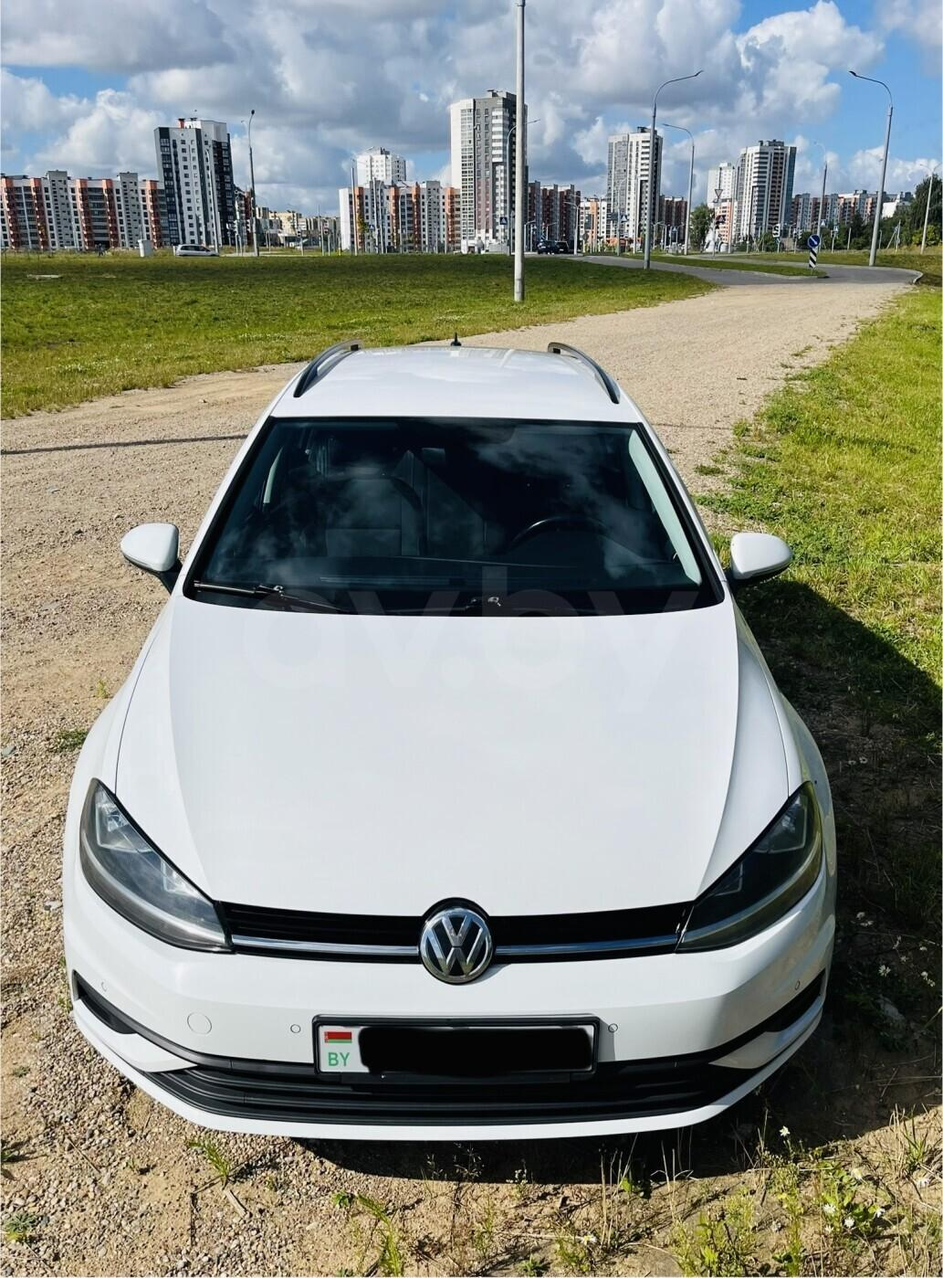Golf_2017-2021: (57, 334, 850, 1158)
